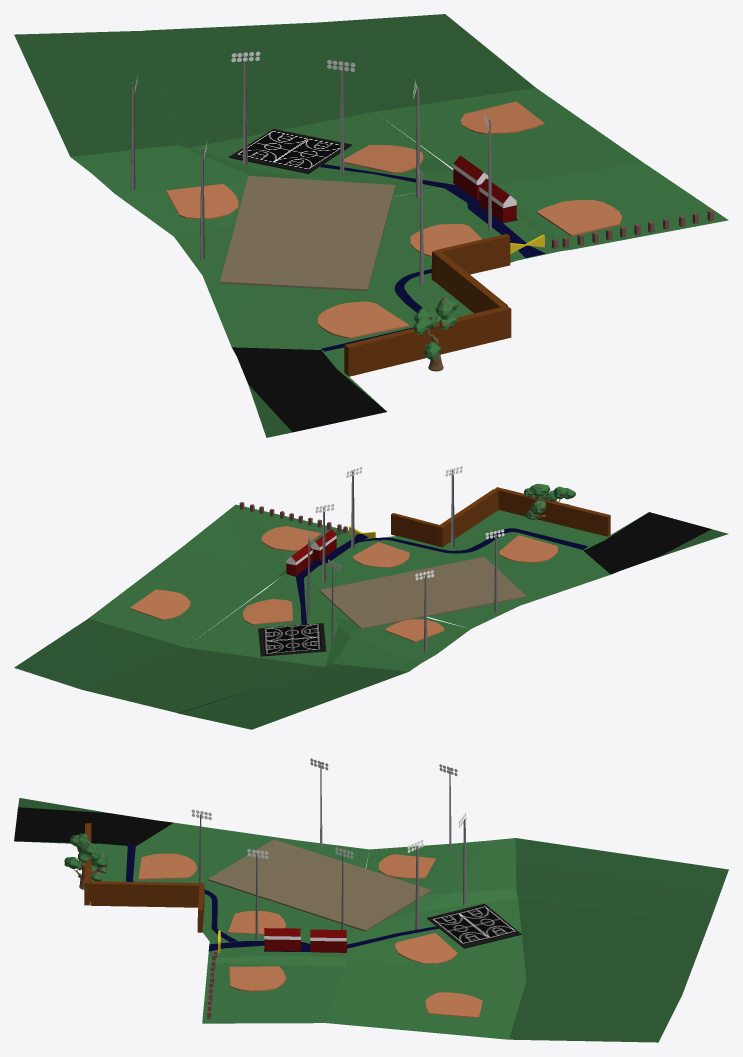
The model's file is isocapefield.glb.
The picture shows the model from 3 angles, top to bottom: view 1: azimuth 30°, elevation 25°; view 2: azimuth 150°, elevation 25°; view 3: azimuth 270°, elevation 25°; orthographic projection. The views are drawn at different scales.
Visible parts, largest first — view 1: capefieldall.006, Cylinder.016, tree_Cube.002; view 2: capefieldall.006, Cylinder.016, tree_Cube.002; view 3: capefieldall.006, Cylinder.016, tree_Cube.002.
Part boxes in pixels (box(x1,y1,x2,y2)): capefieldall.006: box(14, 14, 728, 437); Cylinder.016: box(130, 51, 491, 283); tree_Cube.002: box(413, 296, 458, 371); capefieldall.006: box(14, 487, 728, 729); Cylinder.016: box(307, 466, 504, 651); tree_Cube.002: box(524, 483, 575, 519); capefieldall.006: box(14, 798, 728, 1042); Cylinder.016: box(191, 758, 466, 938); tree_Cube.002: box(64, 833, 107, 889).
Bounding box in the file's own units: 1.31 × 0.3018 × 1.78.
Materials: 15 (1 with a texture image).
